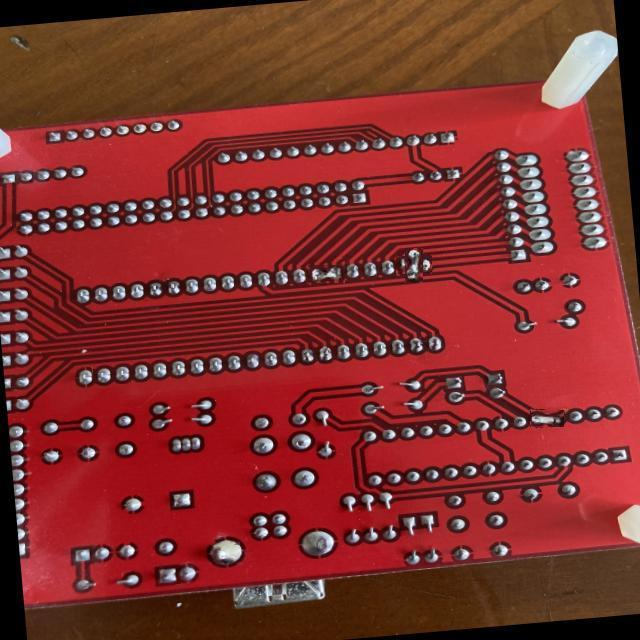damged: (401, 251, 428, 279), (307, 264, 345, 283), (530, 409, 564, 427)
